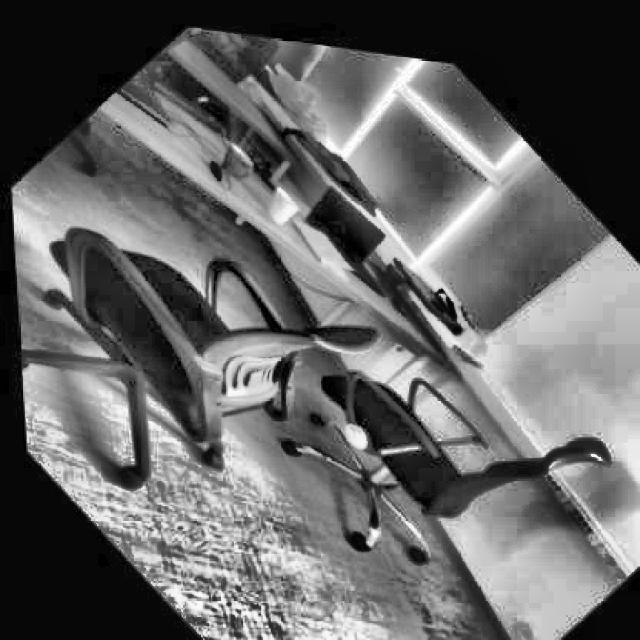cadeira: (4, 83, 413, 577), (234, 216, 637, 638)
